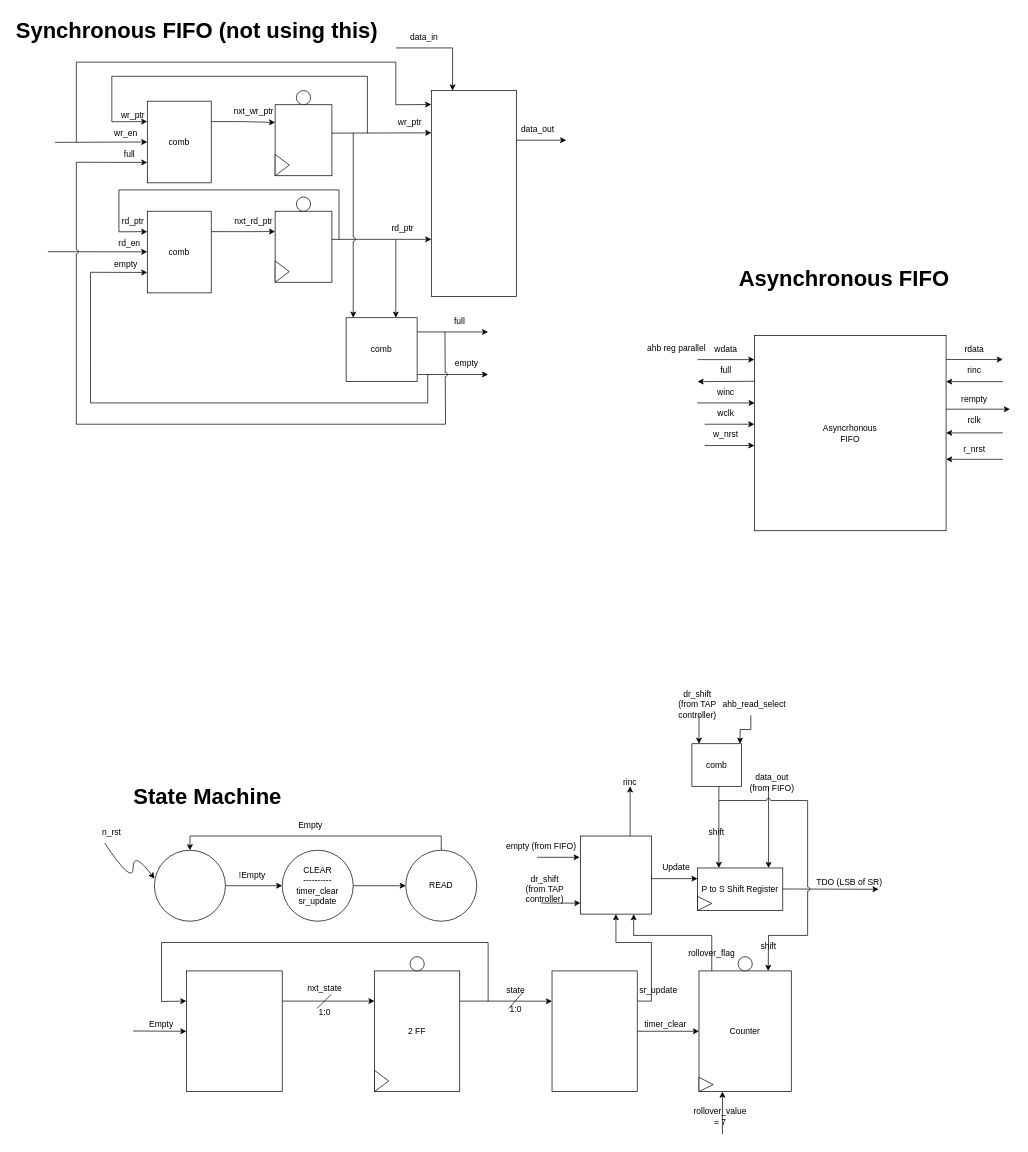
Image size: 1028x1152. Some labels were removed from this diagram. The centre of each missing label's shape, as x and y in pixels:
Buffer: (474,193)
Comb Update Logic: (615,874)
IDLE: (189,885)
Next State Logic: (234,1031)
Output Logic: (594,1031)
